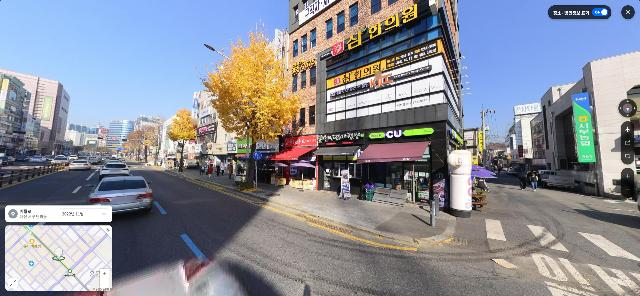ginkgo: (195, 23, 303, 185), (164, 108, 197, 168), (140, 121, 164, 165)
other: (127, 123, 154, 163)
